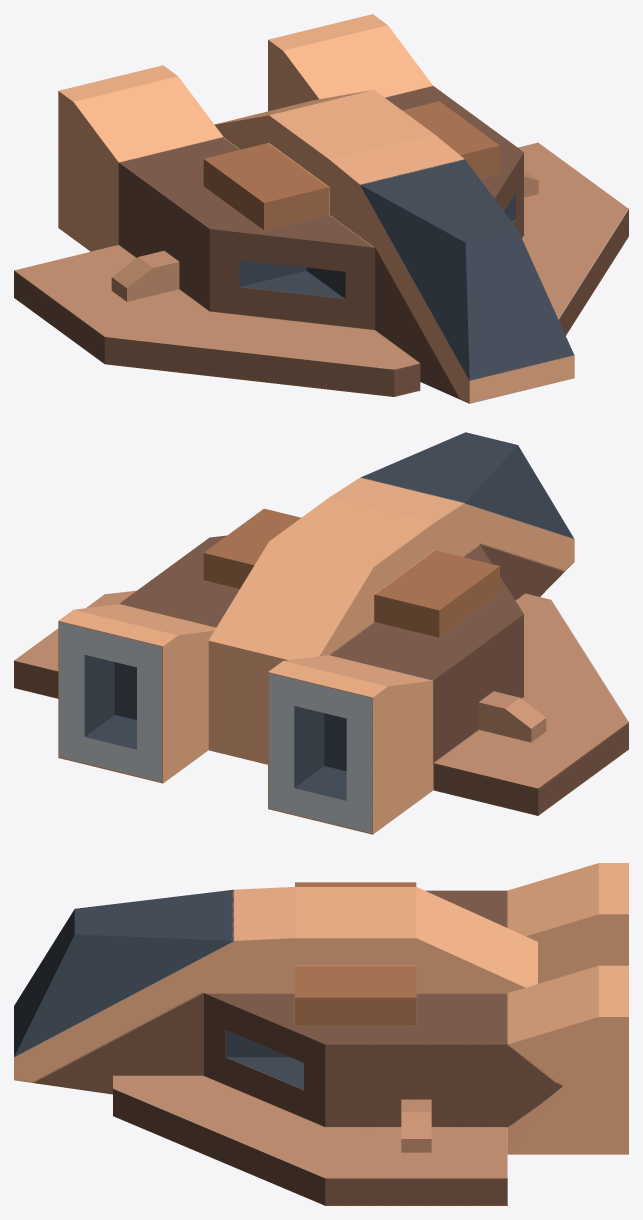
The model's file is spaceship choco.fbx.
The picture shows the model from 3 angles, top to bottom: view 1: azimuth 30°, elevation 25°; view 2: azimuth 150°, elevation 25°; view 3: azimuth 270°, elevation 25°; orthographic projection.
Visible parts, largest first — view 1: node_id9 (×4); view 2: node_id9 (×4); view 3: node_id9 (×4).
Boxes of the visible parts, x1,y1,x2,y2 form: node_id9 (×4): (14, 14, 628, 403); node_id9 (×4): (14, 432, 628, 834); node_id9 (×4): (14, 863, 628, 1205).
Size of the model in its own units: 0.512 by 0.1536 by 0.5186.
Materials: 4 (4 with a texture image).
